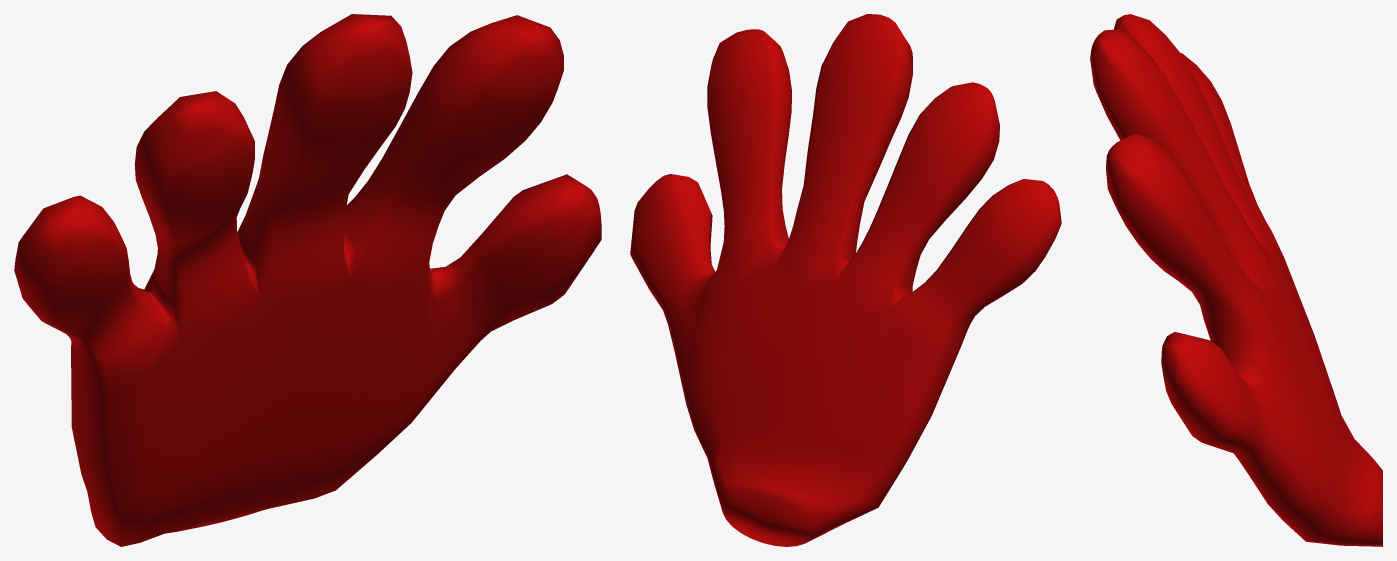
File: hand.fbx
3 views of the same model, side by side, from view 1: azimuth 30°, elevation 25°; view 2: azimuth 150°, elevation 25°; view 3: azimuth 270°, elevation 25° (orthographic). The views are drawn at different scales.
Visible parts, largest first — view 1: hand; view 2: hand; view 3: hand.
Part boxes in pixels (x1,y1,x2,y2): hand: [14, 14, 601, 546]; hand: [630, 14, 1061, 546]; hand: [1090, 14, 1382, 546].
Size of the model in its own units: 68.34 by 69.54 by 36.35.
Materials: 1 (1 with a texture image).
